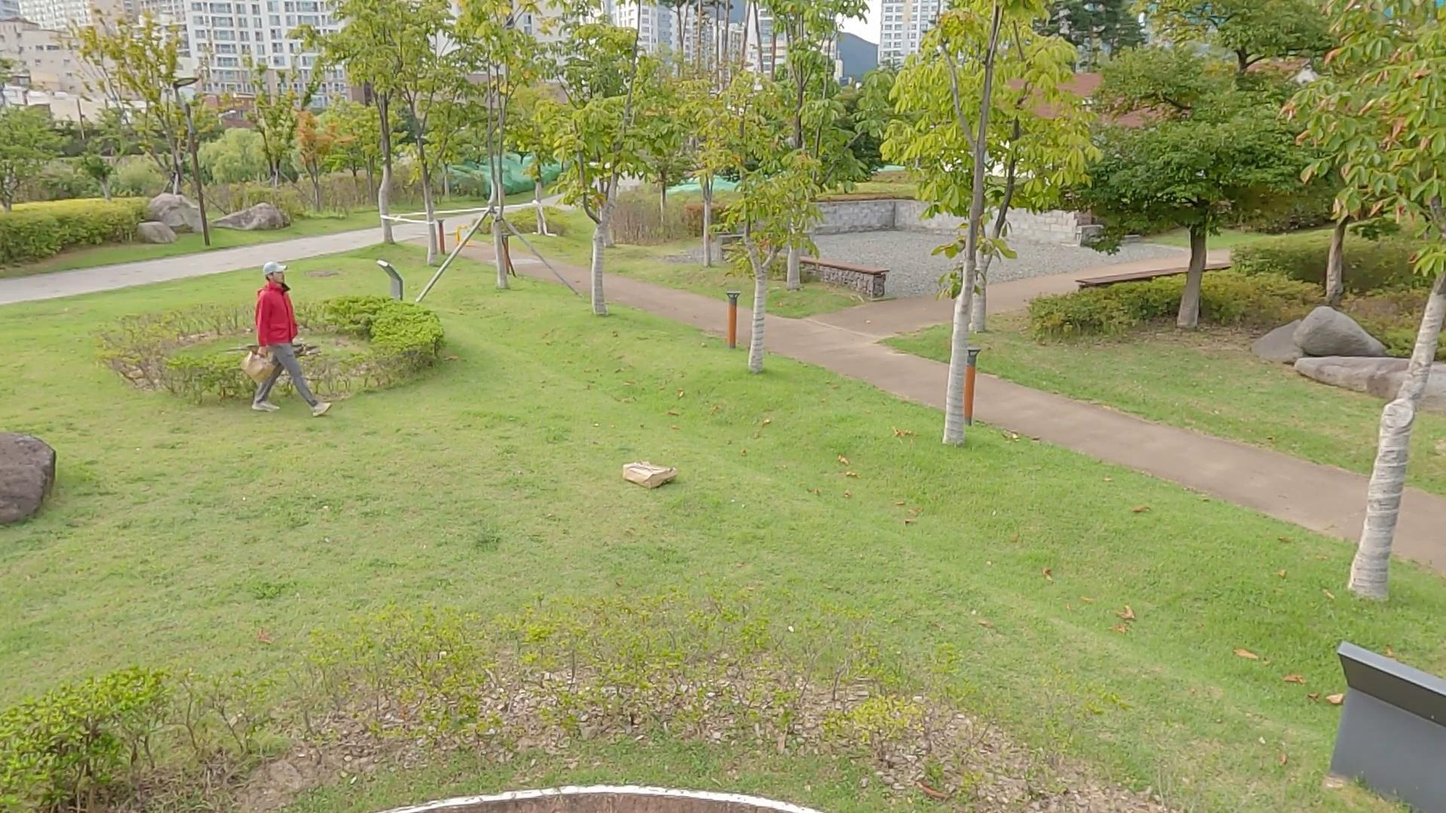person: (247, 260, 330, 425)
trash: (616, 454, 678, 493), (237, 346, 282, 391)
